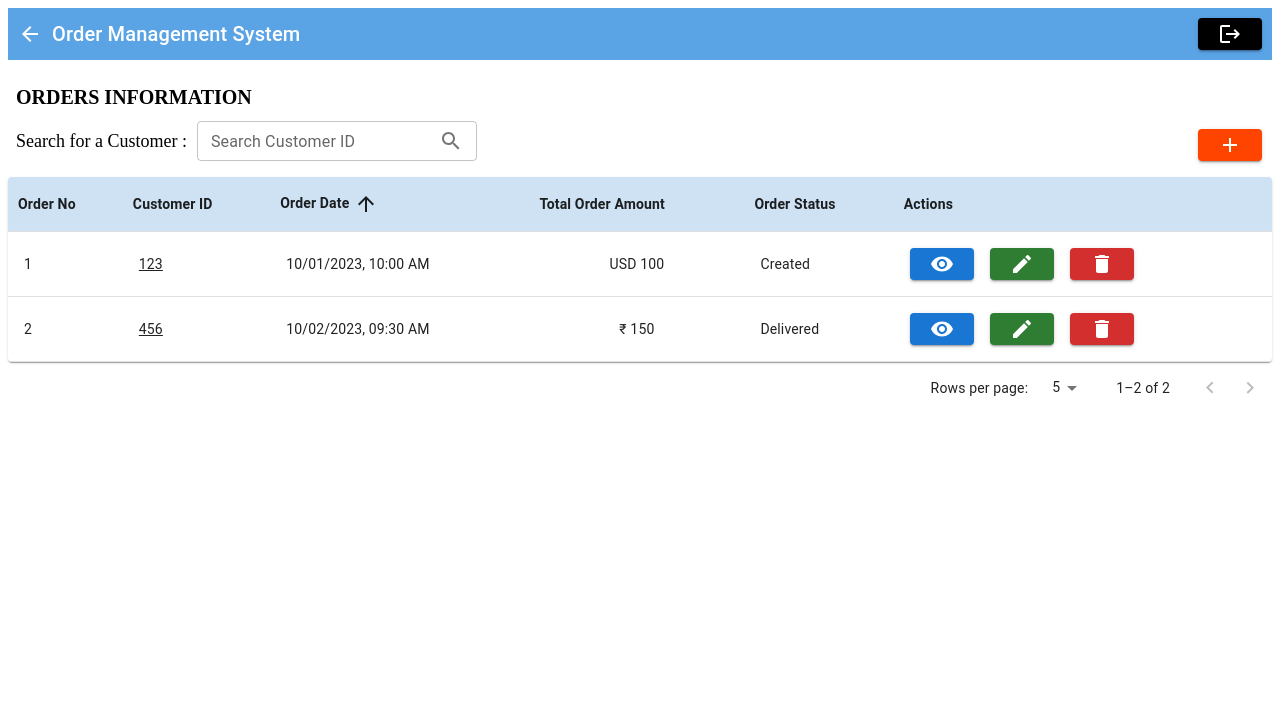
Test: Order Component › opens the Order Modal for addition
The image size is (1280, 720).
Click the button with test id "add" at (1230, 145), box [1198,129,1262,161]
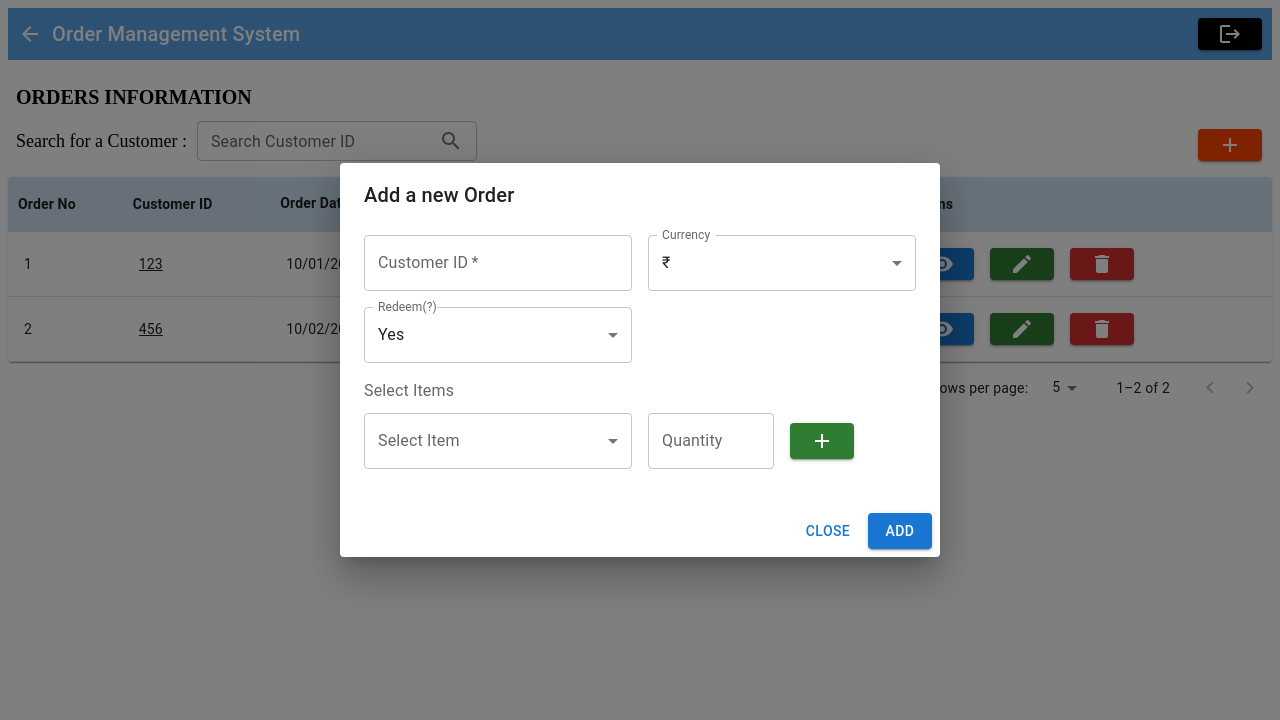
Now the button "Add" is shown, box [868,513,932,549]
